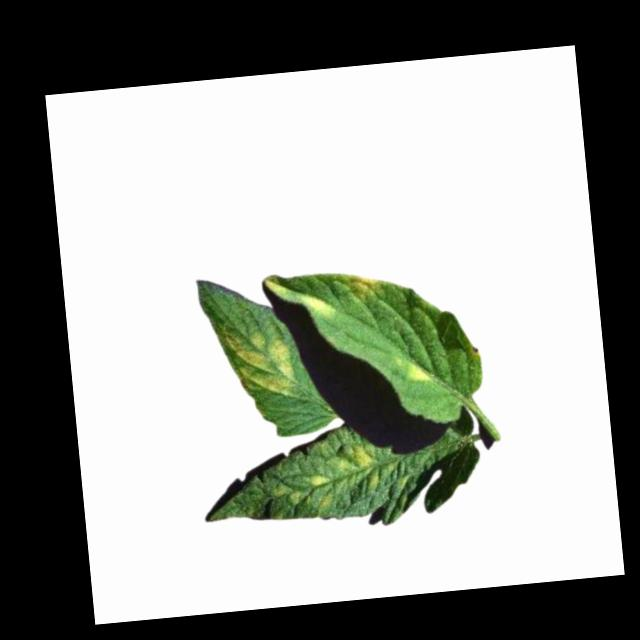Leaf_Mold: (268, 443, 384, 514), (222, 325, 295, 399), (349, 271, 386, 304), (403, 356, 432, 384), (308, 290, 336, 318)
